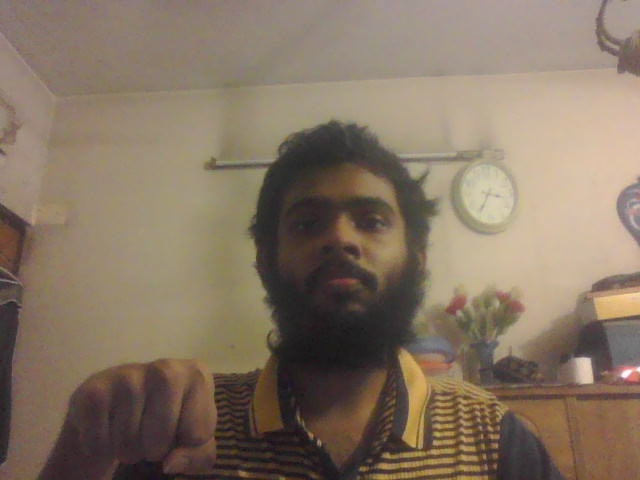Yes: (58, 356, 231, 478)
